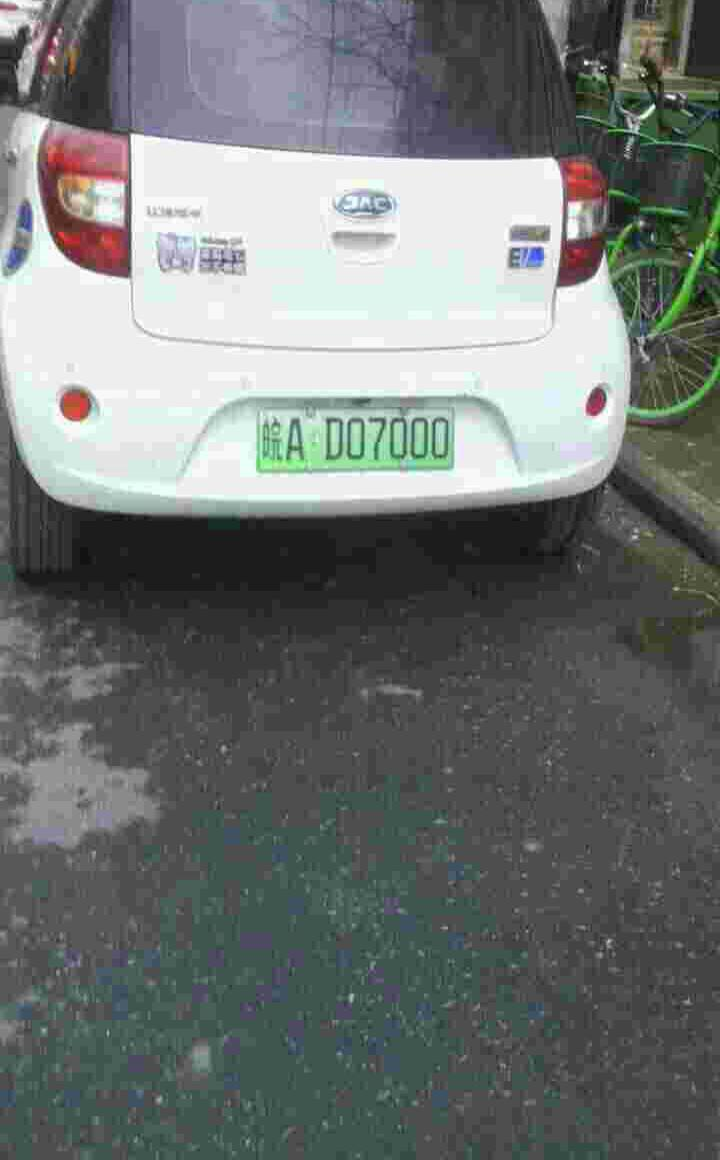car_id: (256, 404, 454, 471)
